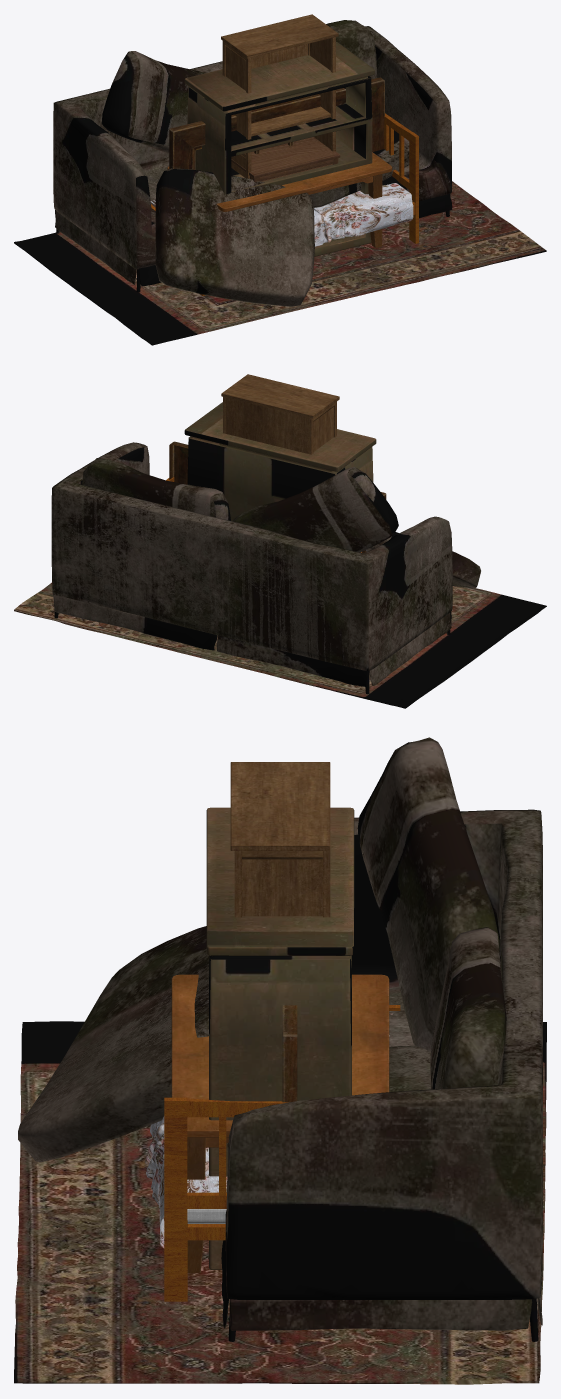
Rendered from furniture.glb.
3 views of the same model, one above another, from view 1: azimuth 30°, elevation 25°; view 2: azimuth 150°, elevation 25°; view 3: azimuth 270°, elevation 25° (orthographic). The views are drawn at different scales.
Parts seen in each view (by area): view 1: couch, rug, dresser, wardrobe, bed, window, desk, nightstand; view 2: couch, rug, dresser, wardrobe, window; view 3: couch, rug, dresser, wardrobe, desk, bed, window.
Boxes of the visible parts, x1=… form: couch: x1=53, y1=20, x2=452, y2=306; rug: x1=14, y1=181, x2=546, y2=345; dresser: x1=184, y1=41, x2=374, y2=256; wardrobe: x1=221, y1=14, x2=338, y2=178; bed: x1=150, y1=113, x2=418, y2=295; window: x1=169, y1=77, x2=384, y2=169; desk: x1=167, y1=152, x2=392, y2=247; nightstand: x1=231, y1=137, x2=340, y2=181; couch: x1=51, y1=442, x2=480, y2=694; rug: x1=14, y1=582, x2=546, y2=708; dresser: x1=184, y1=402, x2=376, y2=521; wardrobe: x1=221, y1=374, x2=339, y2=454; window: x1=169, y1=441, x2=386, y2=552; couch: x1=18, y1=737, x2=542, y2=1341; rug: x1=14, y1=1021, x2=546, y2=1384; dresser: x1=206, y1=807, x2=354, y2=1269; wardrobe: x1=230, y1=762, x2=330, y2=917; desk: x1=171, y1=974, x2=389, y2=1273; bed: x1=144, y1=1005, x2=400, y2=1301; window: x1=282, y1=1005, x2=297, y2=1102.
Size of the model in its own units: 3.59 by 1.85 by 2.23.
Materials: 12 (12 with a texture image).
